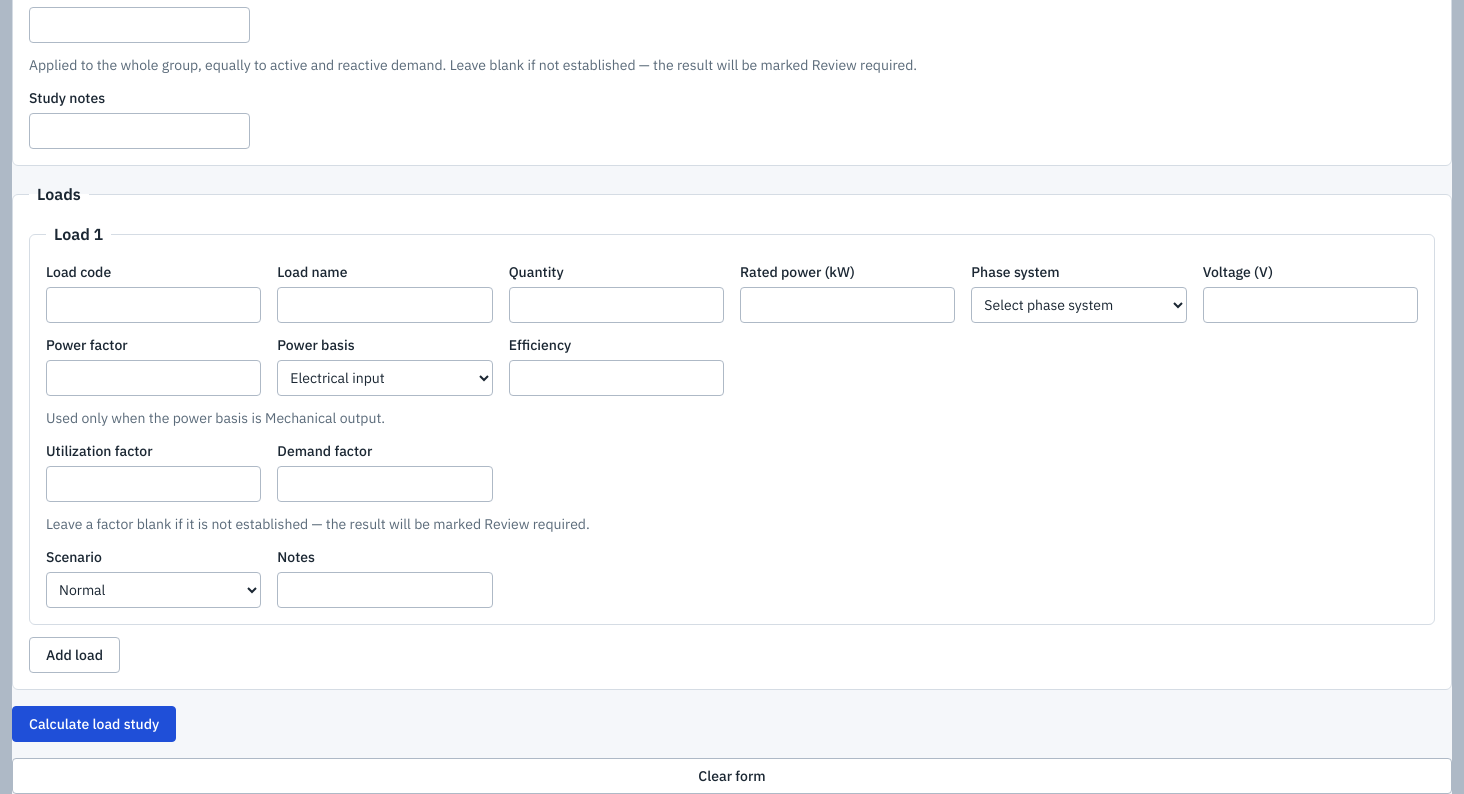
LoadStudyForm › hides the remove button again when one load is left
(page scrolled)
What coordinates should you click on to do the following:
click the button "Add load"
I would click on:
 (74, 655)
Its box is [29,637,120,673].
(page scrolled)
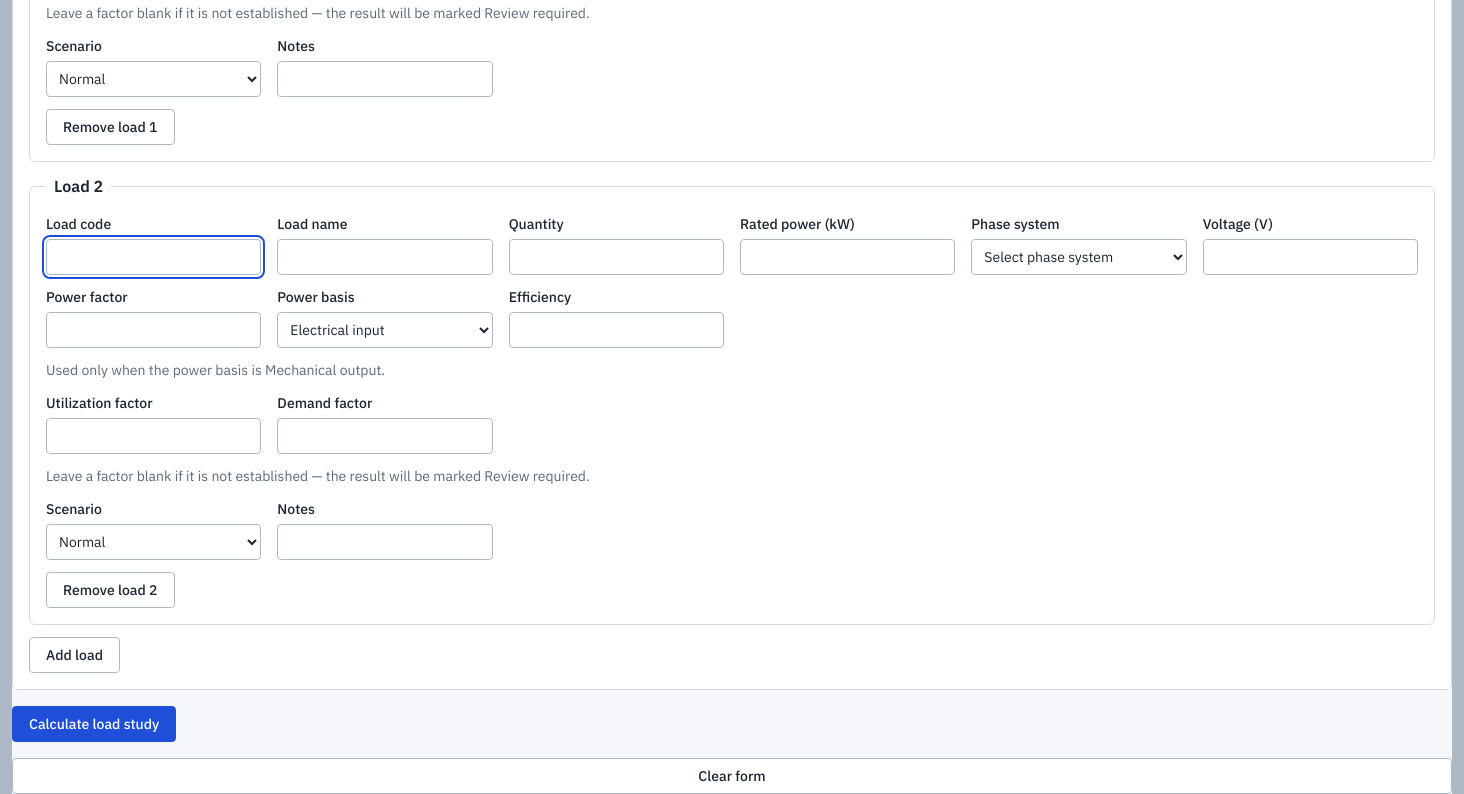
What coordinates should you click on to do the following:
click the button "Remove load 2"
I would click on:
 (110, 590)
Its box is [46,572,174,608].
(page scrolled)
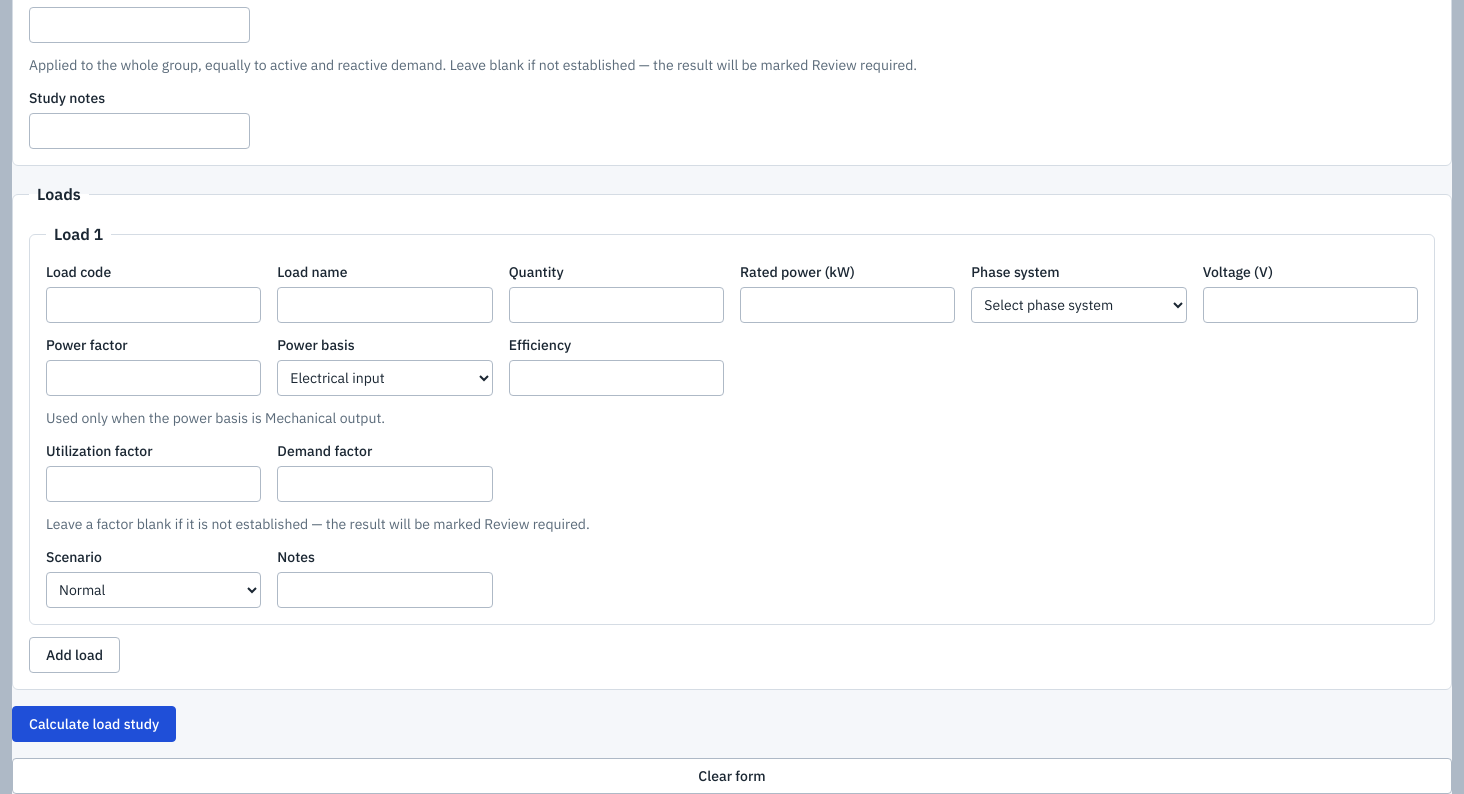
Now the button "Remove load 1" is gone
